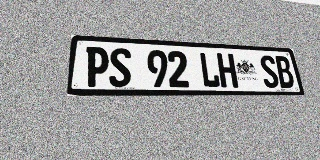2: (167, 50, 189, 87)
9: (147, 49, 169, 87)
B: (274, 56, 295, 88)
H: (216, 53, 238, 88)
L: (199, 52, 221, 88)
P: (84, 46, 109, 87)
S: (109, 48, 131, 87), (258, 55, 280, 88)
